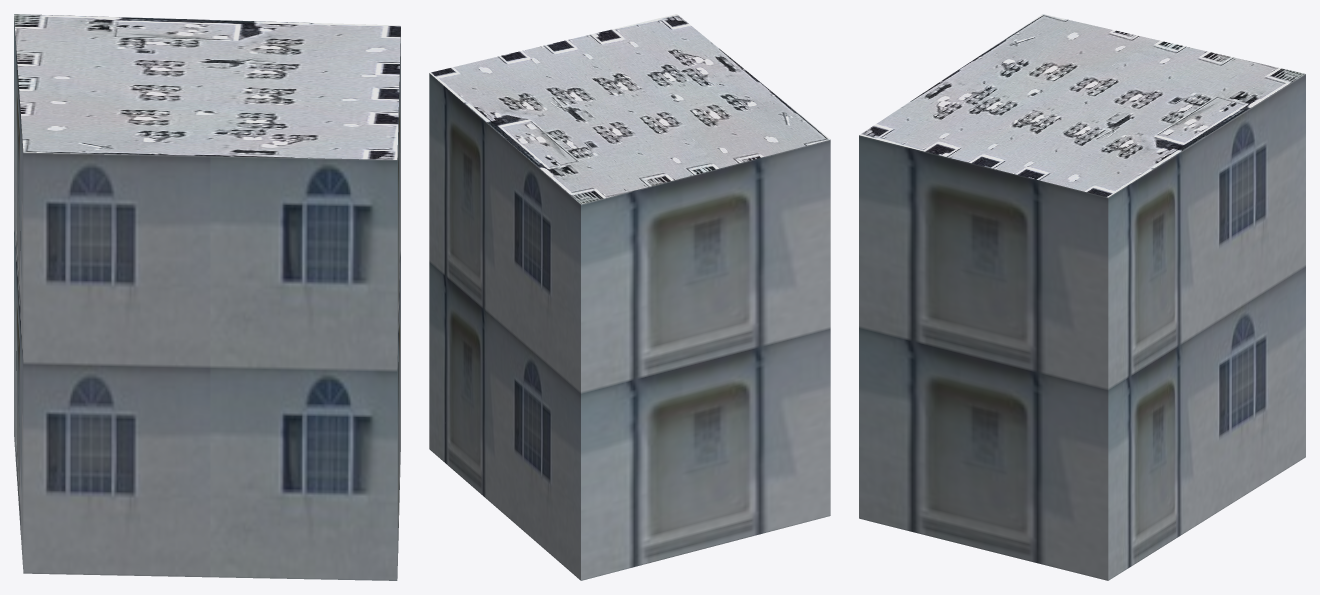
Rendered from ResTex__613.fbx.
3 renders of one model, left to right at view 1: azimuth 30°, elevation 25°; view 2: azimuth 150°, elevation 25°; view 3: azimuth 270°, elevation 25°, orthographic. The views are drawn at different scales.
Parts seen in each view (by area): view 1: CityEngineMaterial_17_m, CityEngineMaterial_8_m; view 2: CityEngineMaterial_17_m, CityEngineMaterial_8_m; view 3: CityEngineMaterial_17_m, CityEngineMaterial_8_m.
Part boxes in pixels (x1,y1,x2,y2): CityEngineMaterial_17_m: (14, 16, 400, 580); CityEngineMaterial_8_m: (14, 14, 400, 159); CityEngineMaterial_17_m: (429, 73, 830, 580); CityEngineMaterial_8_m: (430, 14, 830, 204); CityEngineMaterial_17_m: (859, 74, 1305, 580); CityEngineMaterial_8_m: (859, 14, 1305, 197).
Bounding box in the file's own units: 6.16 × 6 × 6.34.
2 materials, 2 textured.
